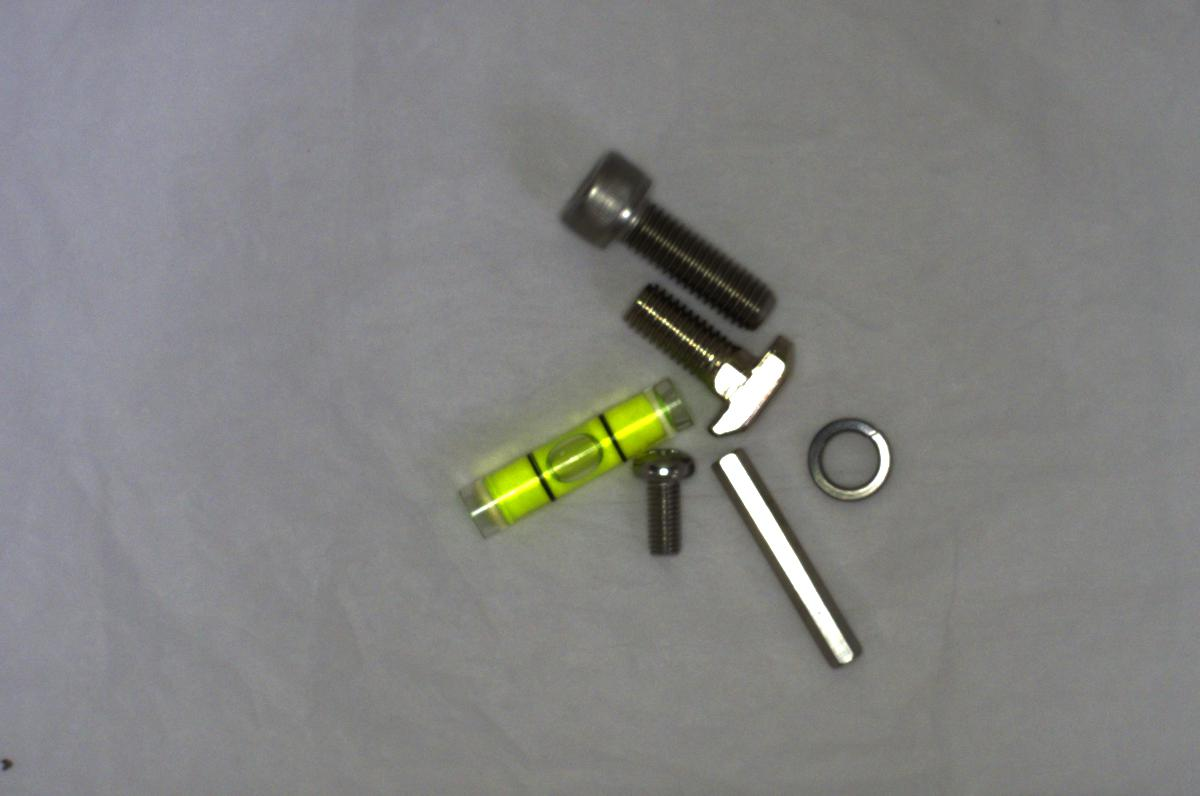Double hexagonal column: (713, 441, 862, 680)
Hexagon screw: (565, 148, 778, 329)
Horizontal bubble: (457, 367, 694, 535)
Round head screw: (626, 448, 705, 556)
Spring washer: (802, 413, 899, 508)
T-shaped screw: (621, 283, 794, 435)
